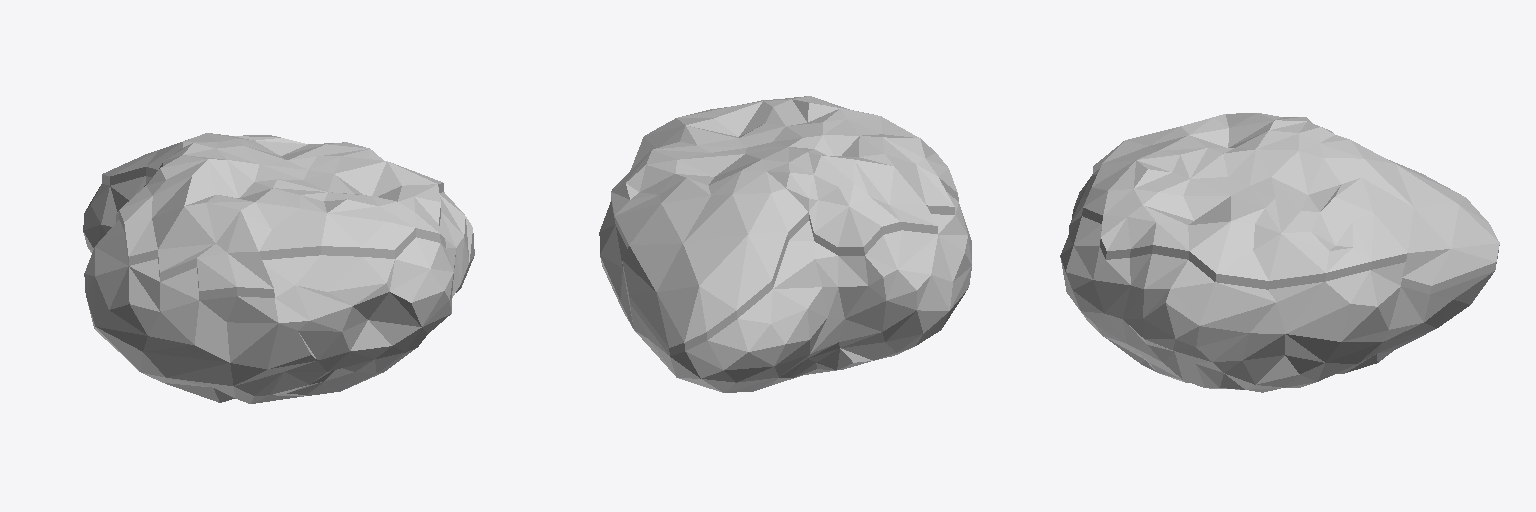
The model's file is rock3.obj.
3 renders of one model, left to right at view 1: azimuth 30°, elevation 25°; view 2: azimuth 150°, elevation 25°; view 3: azimuth 270°, elevation 25°, orthographic.
Visible parts, largest first — view 1: Big_Rock_Cube.007; view 2: Big_Rock_Cube.007; view 3: Big_Rock_Cube.007.
Part boxes in pixels (bbox=[...]): Big_Rock_Cube.007: bbox=[83, 133, 474, 403]; Big_Rock_Cube.007: bbox=[599, 96, 971, 392]; Big_Rock_Cube.007: bbox=[1060, 113, 1499, 392].
Bounding box in the file's own units: 7.36 × 4.56 × 8.18.